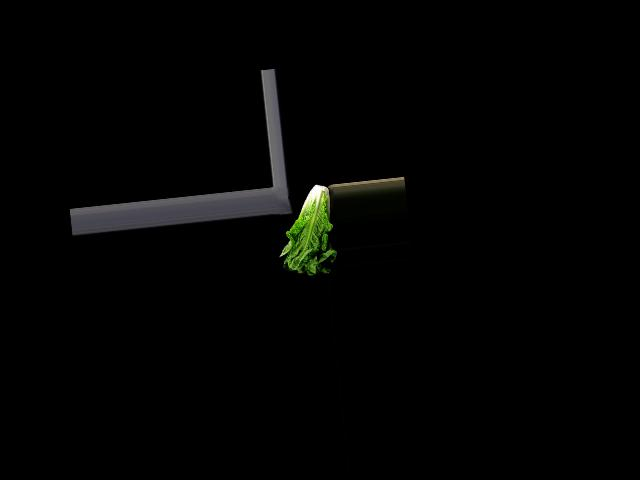lettuce: (272, 182, 339, 280)
